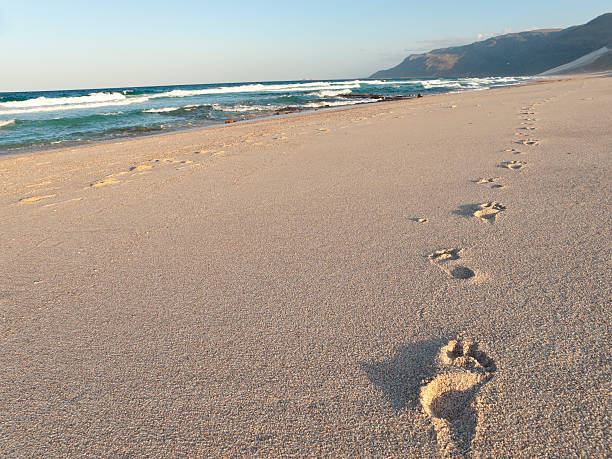human_footprint: (420, 338, 495, 456), (428, 248, 475, 279), (454, 201, 505, 223), (473, 201, 505, 222), (473, 177, 502, 188), (499, 160, 526, 169), (516, 138, 538, 145), (409, 217, 428, 222)
